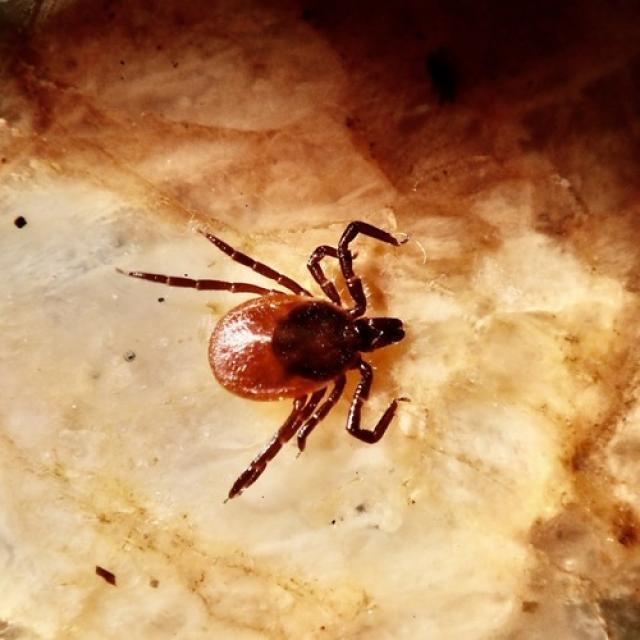Ixodes Ricinus-F: (124, 221, 408, 502)
